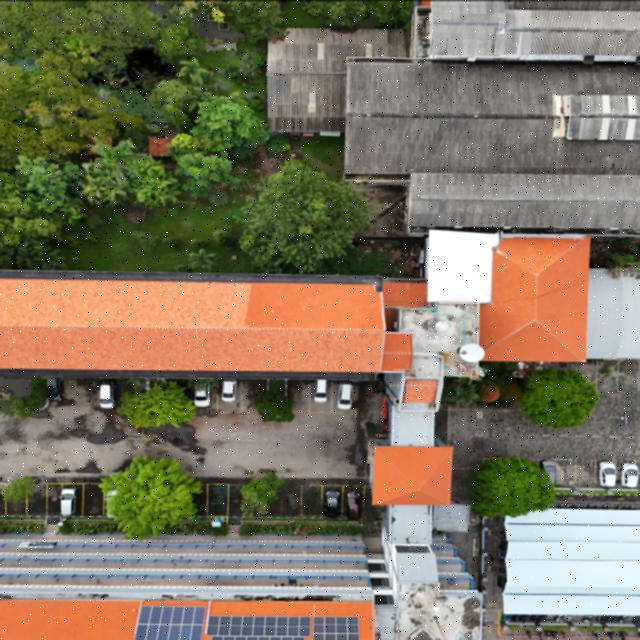Tree: (232, 157, 370, 271), (96, 456, 205, 540), (464, 454, 561, 518), (516, 368, 599, 430), (116, 383, 198, 428), (234, 469, 288, 514), (160, 128, 208, 160)
